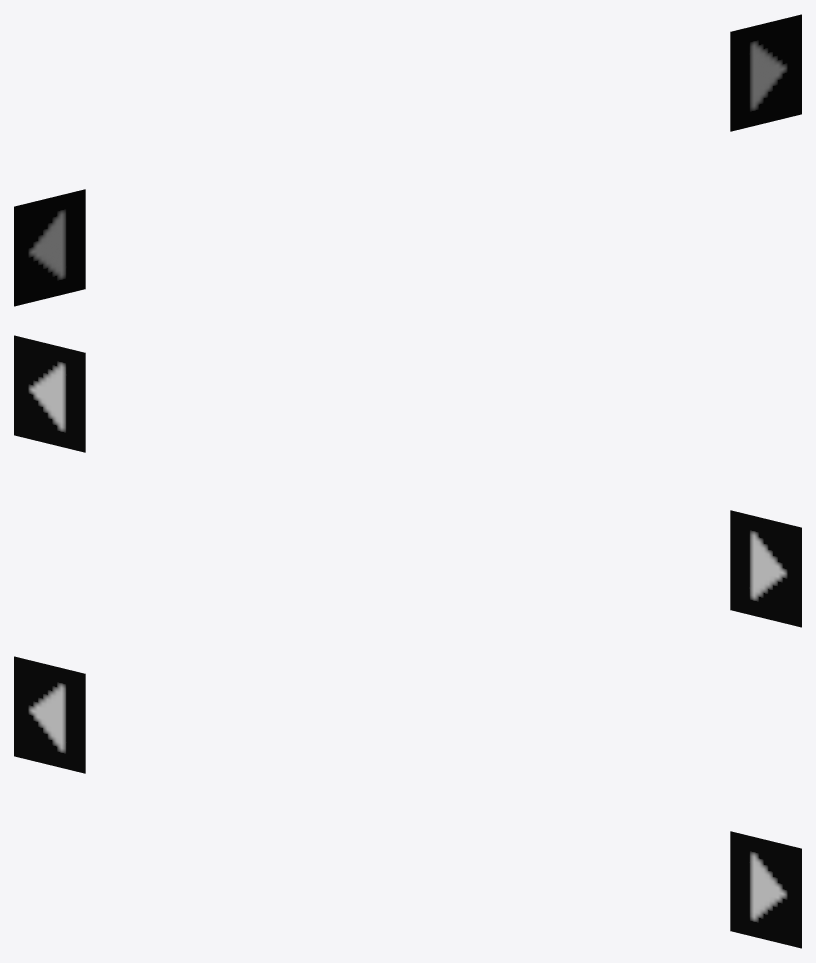
3 renders of one model, top to bottom at view 1: azimuth 30°, elevation 25°; view 2: azimuth 150°, elevation 25°; view 3: azimuth 330°, elevation 25°, orthographic.
Visible parts, largest first — view 1: Joint_0_Object_0; view 2: Joint_0_Object_0; view 3: Joint_0_Object_0.
Part boxes in pixels (x1,y1,x2,y2): Joint_0_Object_0: [14, 14, 801, 306]; Joint_0_Object_0: [14, 335, 801, 627]; Joint_0_Object_0: [14, 656, 801, 948].
Size of the model in its own units: 82.5 by 10 by 0.
Materials: 1 (1 with a texture image).
